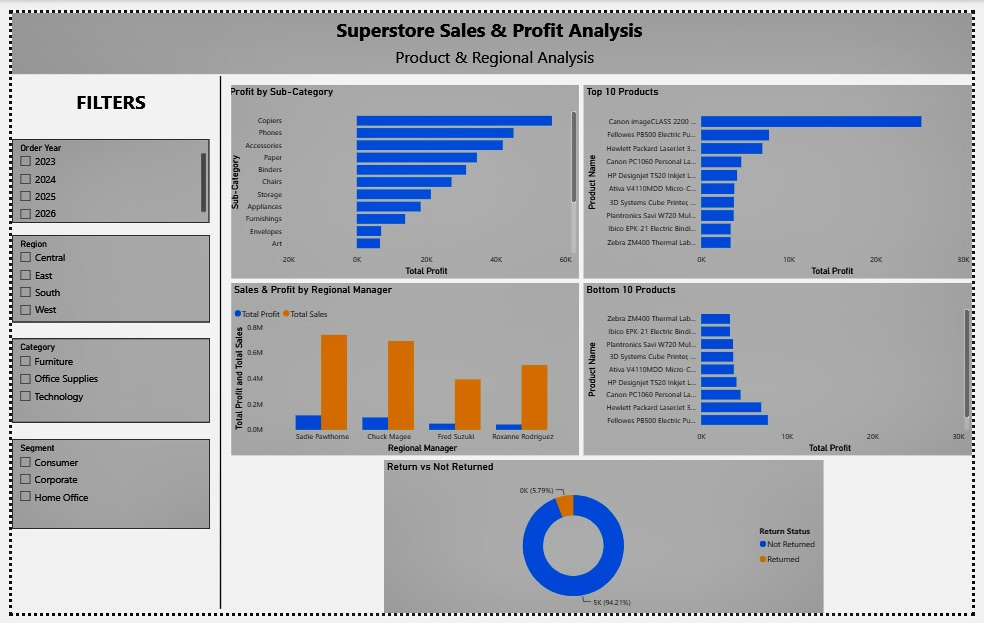

The page's visual inventory and layout, read from the dashboard file:
{"tool":"powerbi","page":{"name":"Page 2","canvas":[1600,1000],"ordinal":1},"visuals":[{"type":"clusteredBarChart","title":"Profit by Sub-Category","fields":{"Y":["orders_cleaned.Total Profit"],"Category":["orders_cleaned.Sub-Category"]},"box":[357.5,120,587.5,322.5],"z":1000},{"type":"clusteredBarChart","title":"Top 10 Products","fields":{"Category":["orders_cleaned.Product Name"],"Y":["orders_cleaned.Total Profit"]},"box":[952.5,120,647.5,322.5],"z":2000},{"type":"clusteredBarChart","title":"Bottom 10 Products","fields":{"Category":["orders_cleaned.Product Name"],"Y":["orders_cleaned.Total Profit"]},"box":[952.5,450,647.5,287.5],"z":3000},{"type":"donutChart","title":"Return vs Not Returned","fields":{"Y":["orders_cleaned.Total Orders"],"Category":["orders_cleaned.Return Status"]},"box":[620,745,732.5,255],"z":4000},{"type":"clusteredColumnChart","title":"Sales & Profit by Regional Manager","fields":{"Y":["orders_cleaned.Total Profit","orders_cleaned.Total Sales"],"Category":["people_cleaned.Regional Manager"]},"box":[365,450,580,287.5],"z":5000},{"type":"slicer","fields":{"Values":["orders_cleaned.Order Year"]},"box":[0,210,328.8,139.8],"z":6000},{"type":"slicer","fields":{"Values":["orders_cleaned.Region"]},"box":[0,370,330,145],"z":7000},{"type":"slicer","fields":{"Values":["orders_cleaned.Category"]},"box":[0,542.5,330,140],"z":8000},{"type":"slicer","fields":{"Values":["orders_cleaned.Segment"]},"box":[0,710,330,150],"z":9000},{"type":"textbox","box":[0,0,1600,102],"z":10000},{"type":"textbox","box":[0,120,330,70],"z":10001},{"type":"shape","box":[330,105,35,887.5],"z":10003}]}

Visuals, with their boxes in screenshot pixels (x1, y1, x2, y2), scaled from the page's 1600x1000 canvas onto the 984x623 screenshot:
"Profit by Sub-Category" clusteredBarChart: <bbox>220, 75, 581, 276</bbox>
"Top 10 Products" clusteredBarChart: <bbox>586, 75, 983, 276</bbox>
"Bottom 10 Products" clusteredBarChart: <bbox>586, 280, 983, 459</bbox>
"Return vs Not Returned" donutChart: <bbox>381, 464, 832, 622</bbox>
"Sales & Profit by Regional Manager" clusteredColumnChart: <bbox>224, 280, 581, 459</bbox>
slicer - orders_cleaned.Order Year: <bbox>0, 131, 202, 218</bbox>
slicer - orders_cleaned.Region: <bbox>0, 231, 203, 321</bbox>
slicer - orders_cleaned.Category: <bbox>0, 338, 203, 425</bbox>
slicer - orders_cleaned.Segment: <bbox>0, 442, 203, 536</bbox>
textbox: <bbox>0, 0, 983, 64</bbox>
textbox: <bbox>0, 75, 203, 118</bbox>
shape: <bbox>203, 65, 224, 618</bbox>
